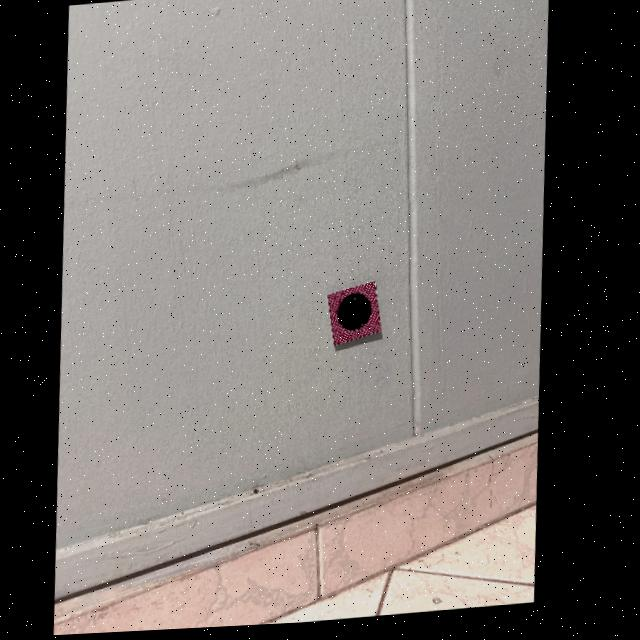CIRCLE: (342, 298, 375, 335)
